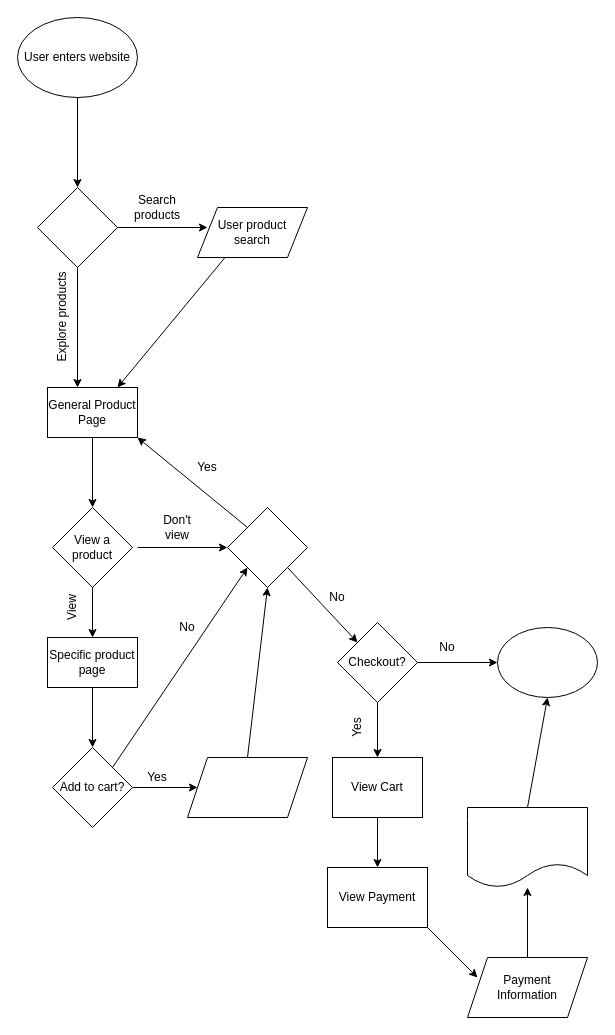
Image size: 615x1035. Some labels were removed from this diagram. Here are the shapes that lost their labels. From the top down, the centre of each, then its label:
point 77,227: Search Or Explore
point 267,547: Continue shopping?
point 547,662: Leave website
point 247,787: Cart Confirmation
point 527,847: Payment Confirmation Screen & Email
